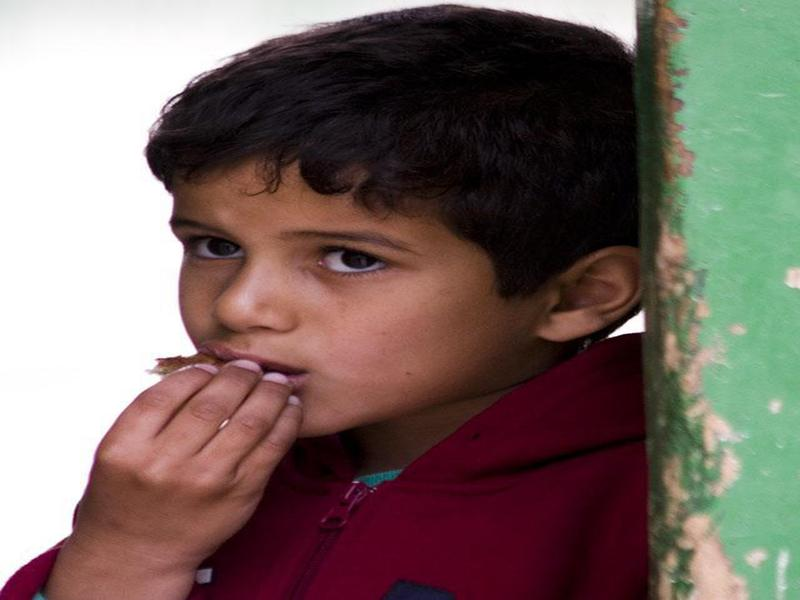person: (9, 3, 649, 600)
